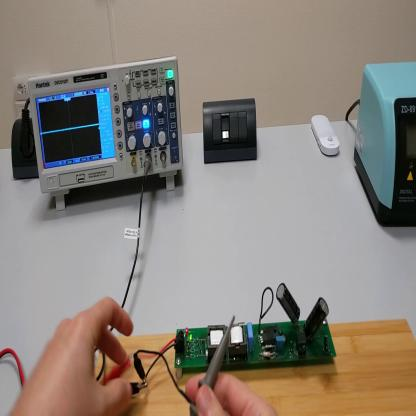hand: (9, 294, 136, 416), (185, 371, 276, 416)
high voltage board: (140, 283, 338, 385)
oscilloscope: (29, 58, 187, 209)
oscilloscope probe tip: (189, 315, 235, 416)
socket: (9, 121, 41, 181)
welder station: (355, 61, 416, 229)
working area: (92, 319, 416, 416)
